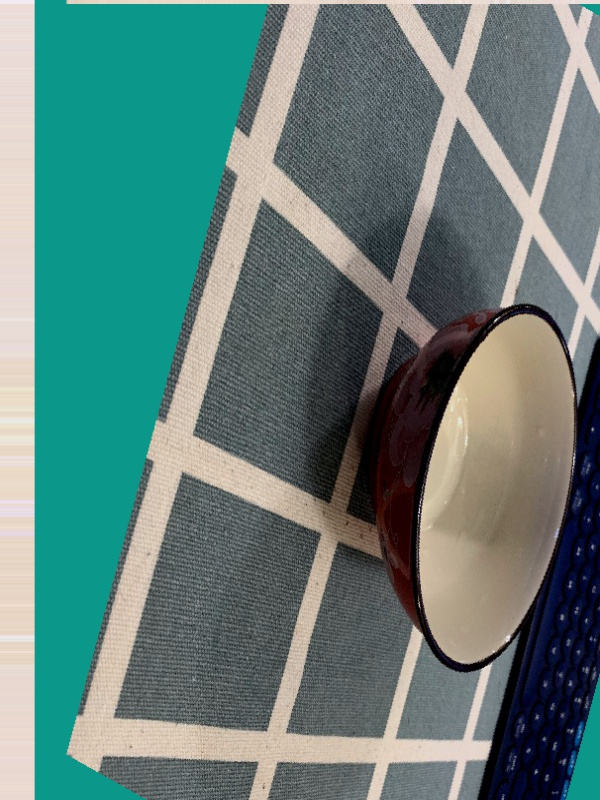bowl_small: (316, 226, 599, 712)
